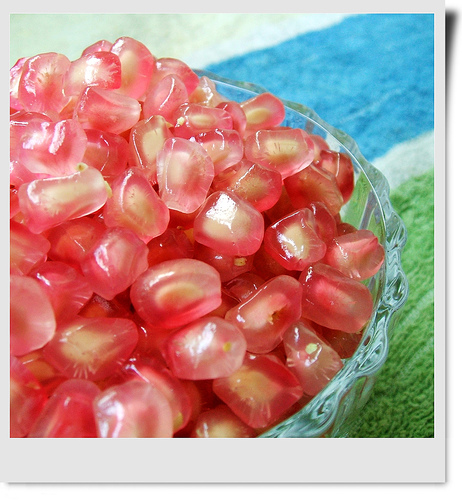pomogranate: (7, 37, 385, 437)
